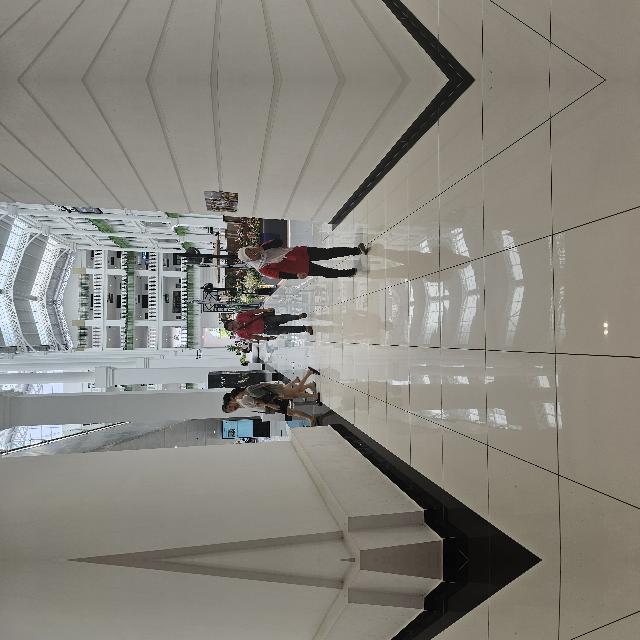person: (280, 316, 322, 446), (152, 310, 194, 400), (218, 304, 252, 392)
